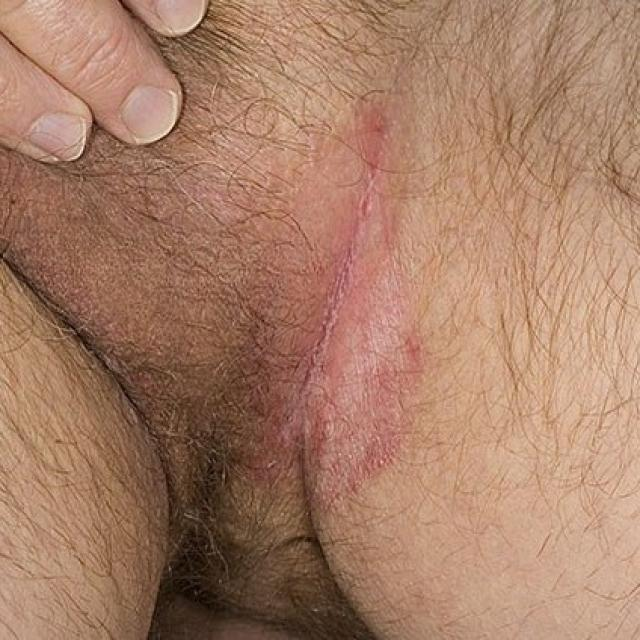Psoriasis Inversa: (0, 0, 638, 638)
